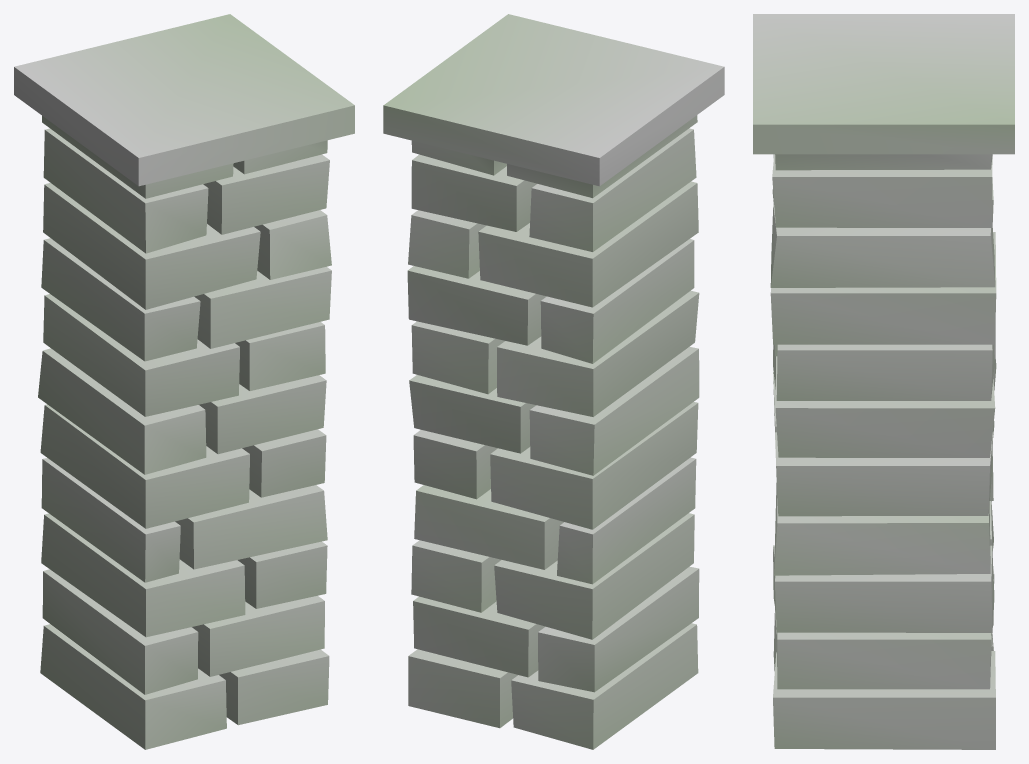
File: pillar.glb
3 views of the same model, side by side, from view 1: azimuth 30°, elevation 25°; view 2: azimuth 150°, elevation 25°; view 3: azimuth 270°, elevation 25° (orthographic). The views are drawn at different scales.
Visible parts, largest first — view 1: Cap, Brick8_0_-50, Brick4_0_-50, Brick2_0_-50, Brick6_0_-50, Brick0_0_-50, Brick5_0_-50, Brick9_0_-50, Brick1_0_-50, Brick7_0_-50, Brick3_0_-25, Brick3_0_-50 (+11 smaller); view 2: Cap, Brick8_0_-50, Brick4_0_-50, Brick6_0_-50, Brick2_0_-50, Brick0_0_-50, Brick5_0_-50, Brick9_0_-50, Brick1_0_-50, Brick7_0_-50, Brick3_0_-25, Brick3_0_-50 (+11 smaller); view 3: Cap, Brick0_0_-2, Brick8_0_15, Brick7_0_-16, Brick2_0_8, Brick3_0_-25, Brick9_0_-10, Brick4_0_10, Brick5_0_-13, Brick1_0_-17, Brick6_0_4, Brick10_0_2.
Part boxes in pixels (x1,y1,x2,y2): Cap: (14,14,354,186); Brick8_0_-50: (43,183,260,309); Brick4_0_-50: (40,404,249,528); Brick2_0_-50: (41,513,245,637); Brick6_0_-50: (43,294,239,416); Brick0_0_-50: (40,624,226,749); Brick5_0_-50: (38,348,206,474); Brick9_0_-50: (43,128,208,253); Brick1_0_-50: (42,569,198,694); Brick7_0_-50: (41,238,200,361); Brick3_0_-25: (175,485,327,569); Brick3_0_-50: (41,458,180,582); Cap: (383,14,724,186); Brick8_0_-50: (478,181,698,307); Brick4_0_-50: (490,402,698,529); Brick6_0_-50: (497,290,699,416); Brick2_0_-50: (494,513,694,639); Brick0_0_-50: (511,623,698,749); Brick5_0_-50: (529,346,699,475); Brick9_0_-50: (529,128,696,251); Brick1_0_-50: (538,566,699,692); Brick7_0_-50: (540,239,694,363); Brick3_0_-25: (414,485,563,569); Brick3_0_-50: (557,457,696,584); Cap: (753,14,1014,154); Brick0_0_-2: (773,651,995,749); Brick8_0_15: (770,205,995,287); Brick7_0_-16: (770,232,996,344); Brick2_0_8: (775,545,994,632); Brick3_0_-25: (774,482,990,575); Brick9_0_-10: (772,154,992,227); Brick4_0_10: (775,432,993,516); Brick5_0_-13: (775,356,995,457); Brick1_0_-17: (776,579,993,689); Brick6_0_4: (776,344,994,400); Brick10_0_2: (775,154,992,170).
Size of the model in its own units: 1.12 by 2.99 by 1.12.
